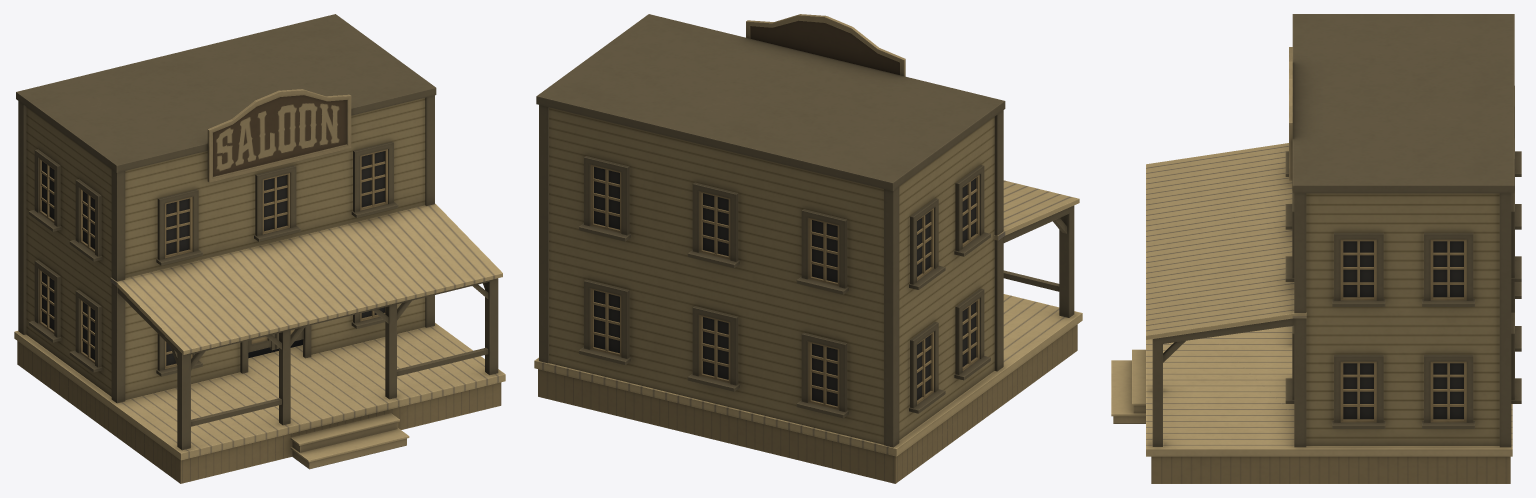
The model's file is Saloon.gltf.
3 views of the same model, side by side, from view 1: azimuth 30°, elevation 25°; view 2: azimuth 150°, elevation 25°; view 3: azimuth 270°, elevation 25° (orthographic). The views are drawn at different scales.
Visible parts, largest first — view 1: node-0; view 2: node-0; view 3: node-0.
Part boxes in pixels (left/top/right/bottom): node-0: left=14, top=14, right=505, bottom=483; node-0: left=534, top=14, right=1082, bottom=483; node-0: left=1111, top=14, right=1521, bottom=483.
Bounding box in the file's own units: 15.66 × 13.9 × 15.32.
1 material, 1 textured.
